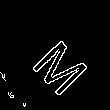M_NE: (23, 24, 92, 92)
